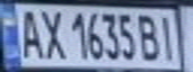1: (63, 8, 87, 60)
3: (100, 10, 121, 61)
5: (115, 10, 139, 61)
6: (84, 9, 106, 61)
A: (12, 6, 45, 60)
B: (136, 11, 163, 62)
I: (154, 11, 184, 62)
X: (36, 6, 66, 61)
